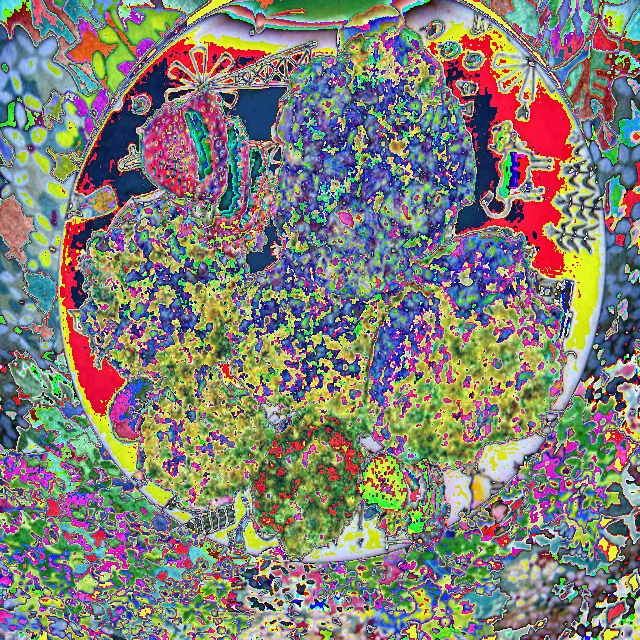background: (82, 24, 566, 556)
